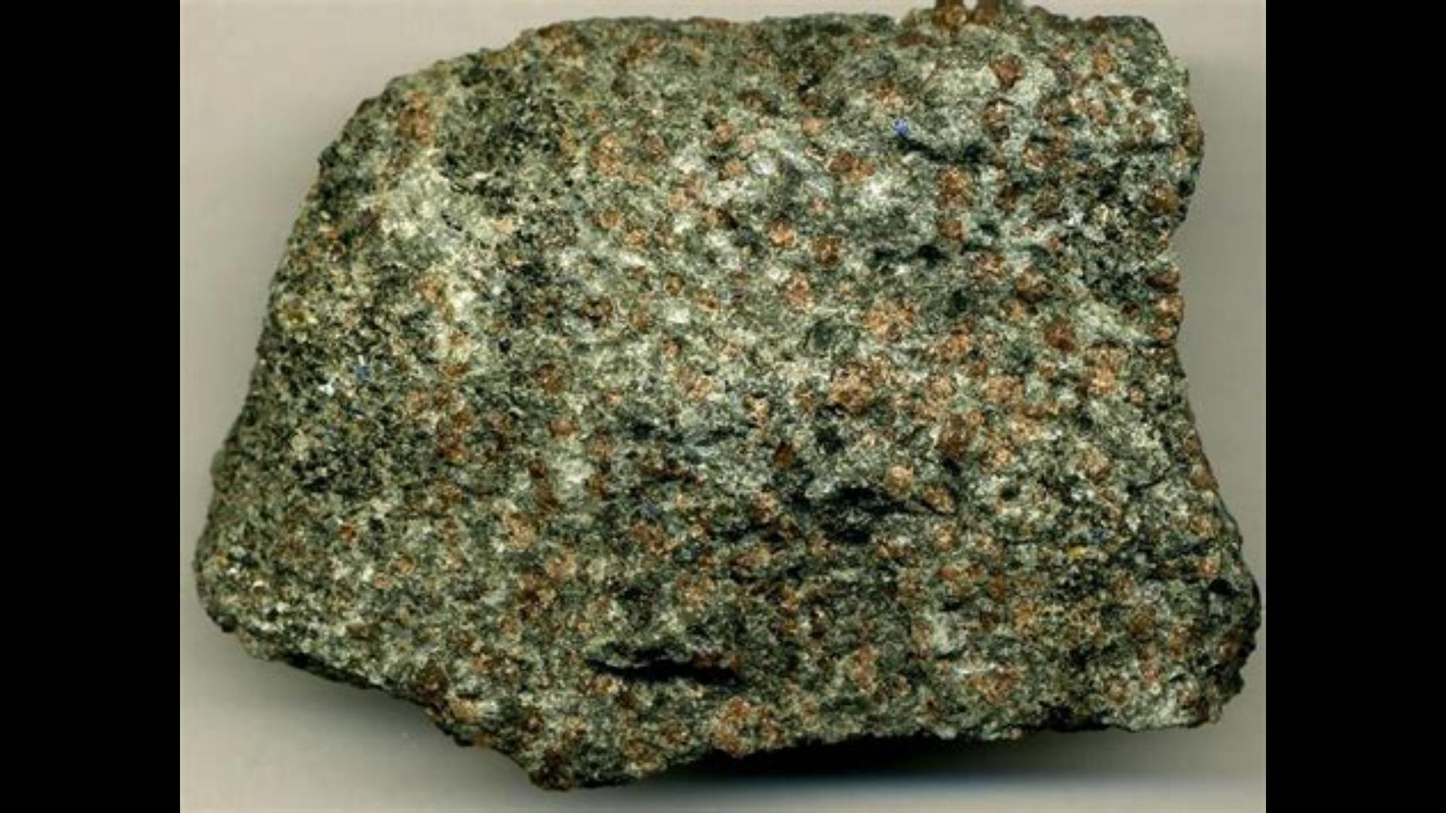rock: (205, 5, 1257, 783)
